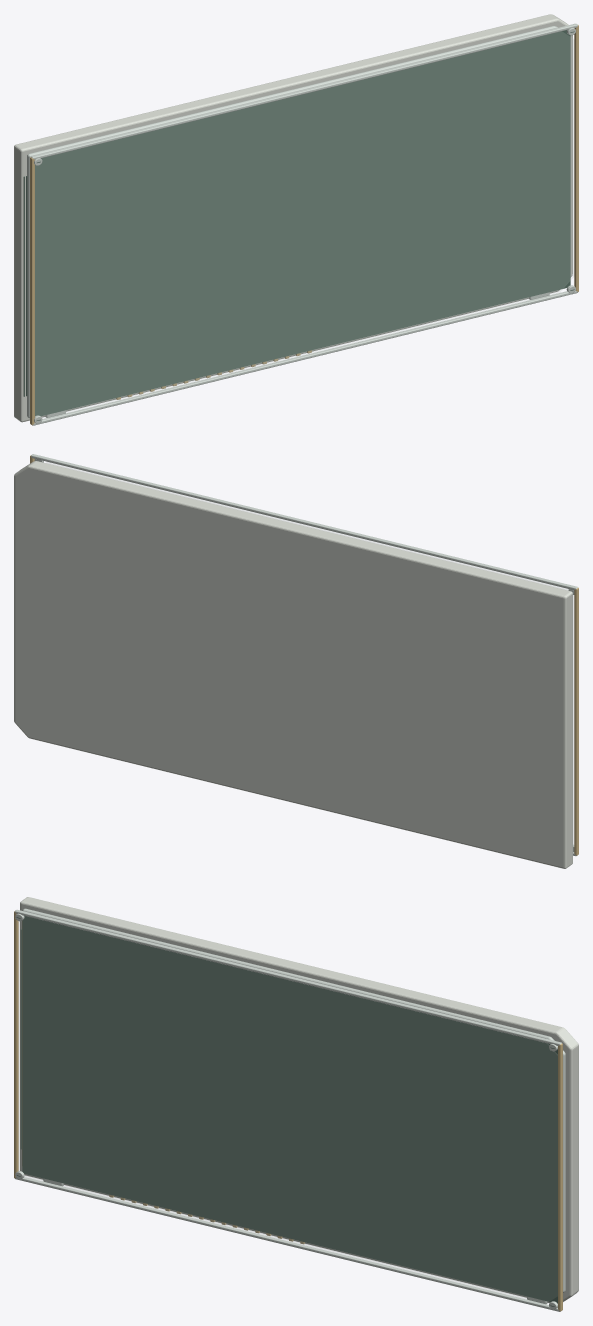
The model's file is lanjian-dossier.glb.
3 renders of one model, top to bottom at view 1: azimuth 30°, elevation 25°; view 2: azimuth 150°, elevation 25°; view 3: azimuth 330°, elevation 25°, orthographic.
Visible parts, largest first — view 1: Optical cover, Project summary display, Back alloy enclosure, Core cassette, Brushed edge rail.001, Brushed edge rail, Light pipe, Light pipe.001; view 2: Back alloy enclosure, Brushed edge rail.001, Light pipe, Optical cover; view 3: Optical cover, Project summary display, Back alloy enclosure, Brushed edge rail.001, Core cassette, Brushed edge rail, Light pipe.001, Light pipe.
Boxes of the visible parts, x1=… form: Optical cover: x1=35, y1=31, x2=573, y2=418; Project summary display: x1=35, y1=30, x2=570, y2=416; Back alloy enclosure: x1=14, y1=14, x2=572, y2=422; Core cassette: x1=27, y1=26, x2=557, y2=418; Brushed edge rail.001: x1=31, y1=23, x2=577, y2=159; Brushed edge rail: x1=32, y1=291, x2=577, y2=425; Light pipe: x1=30, y1=157, x2=34, y2=425; Light pipe.001: x1=574, y1=25, x2=578, y2=291; Back alloy enclosure: x1=14, y1=461, x2=572, y2=868; Brushed edge rail.001: x1=31, y1=454, x2=577, y2=590; Light pipe: x1=574, y1=587, x2=578, y2=855; Optical cover: x1=47, y1=462, x2=573, y2=852; Optical cover: x1=19, y1=916, x2=557, y2=1303; Project summary display: x1=22, y1=916, x2=557, y2=1303; Back alloy enclosure: x1=20, y1=897, x2=578, y2=1303; Brushed edge rail.001: x1=15, y1=909, x2=561, y2=1045; Core cassette: x1=22, y1=908, x2=565, y2=1292; Brushed edge rail: x1=15, y1=1177, x2=560, y2=1311; Light pipe.001: x1=558, y1=1043, x2=562, y2=1311; Light pipe: x1=14, y1=911, x2=18, y2=1178.
Bounding box in the file's own units: 7.2 × 3.41 × 0.386.
